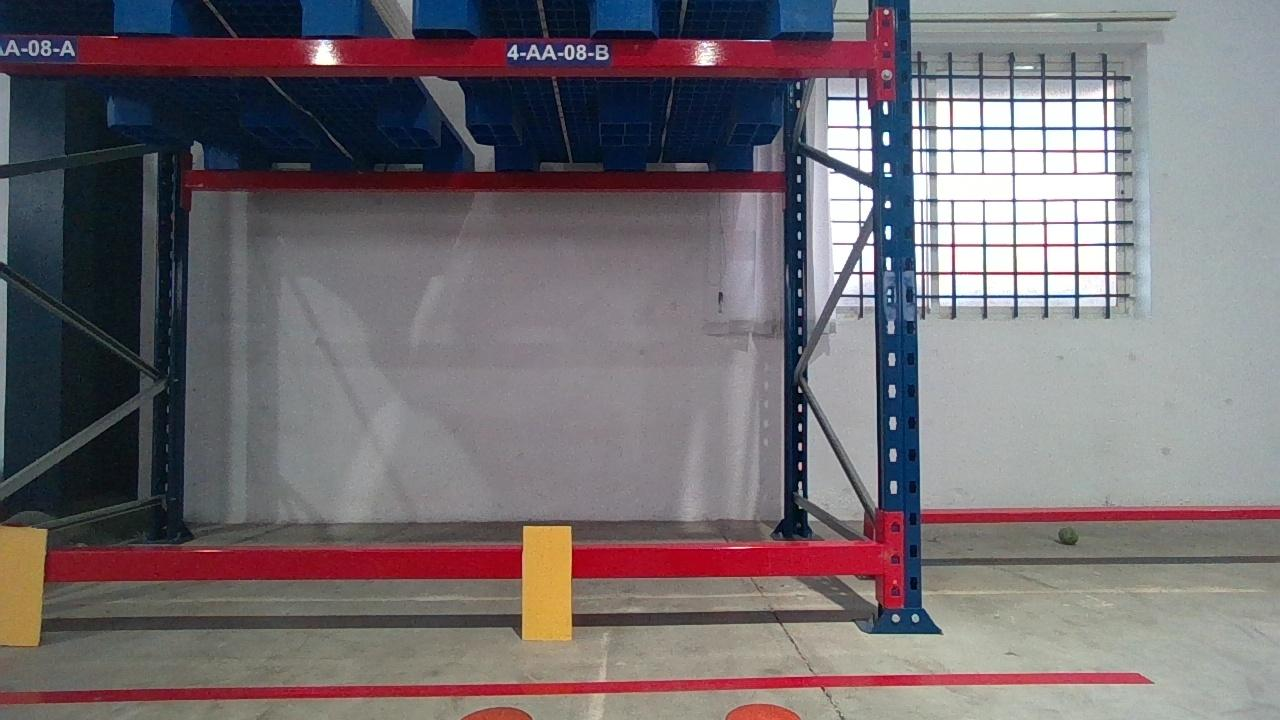h_rack: (52, 540, 883, 586), (4, 35, 875, 68)
orange_strip: (520, 525, 572, 637), (0, 525, 46, 644)
red_line: (2, 669, 1162, 707)
small_pallet: (407, 0, 836, 33), (2, 0, 361, 33)
